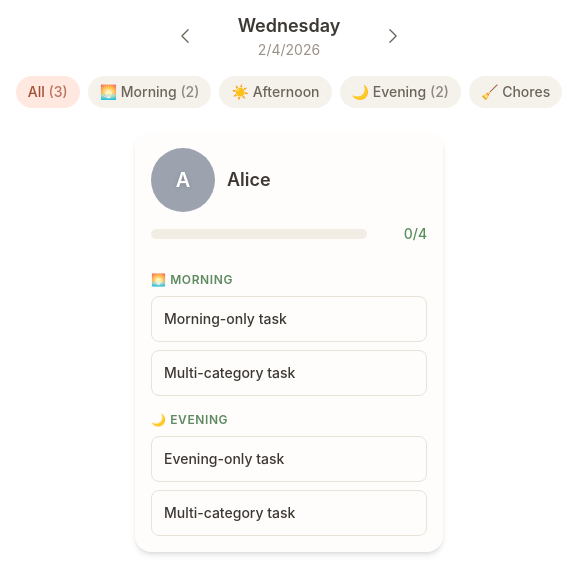
Test: ScheduleView › category filter › clicking Morning filter hides Evening-only items and shows multi-cat task once
The width and height of the screenshot is (579, 573).
Note: Click the Morning filter pill (inside the filter group)
Step 1. Click the button "🌅 Morning (2)" → (150,92), box [88,76,211,108]
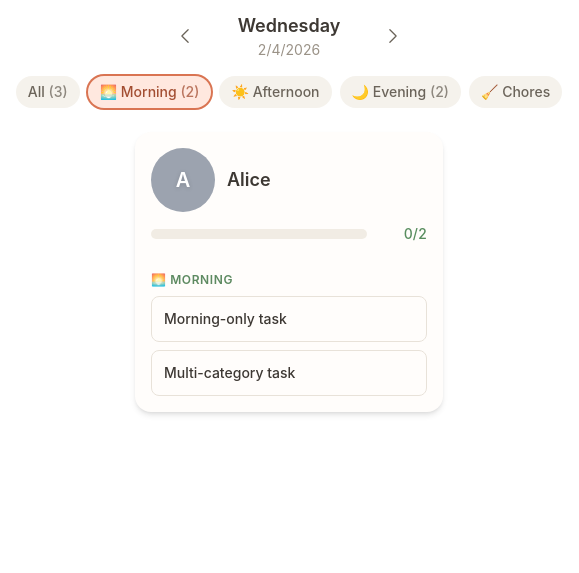
Expected: the text "Morning-only task" is shown, [164,310,287,327]
Now the button "Evening-only task" is gone
Now the text "Multi-category task" is shown once, box [164,364,295,381]
